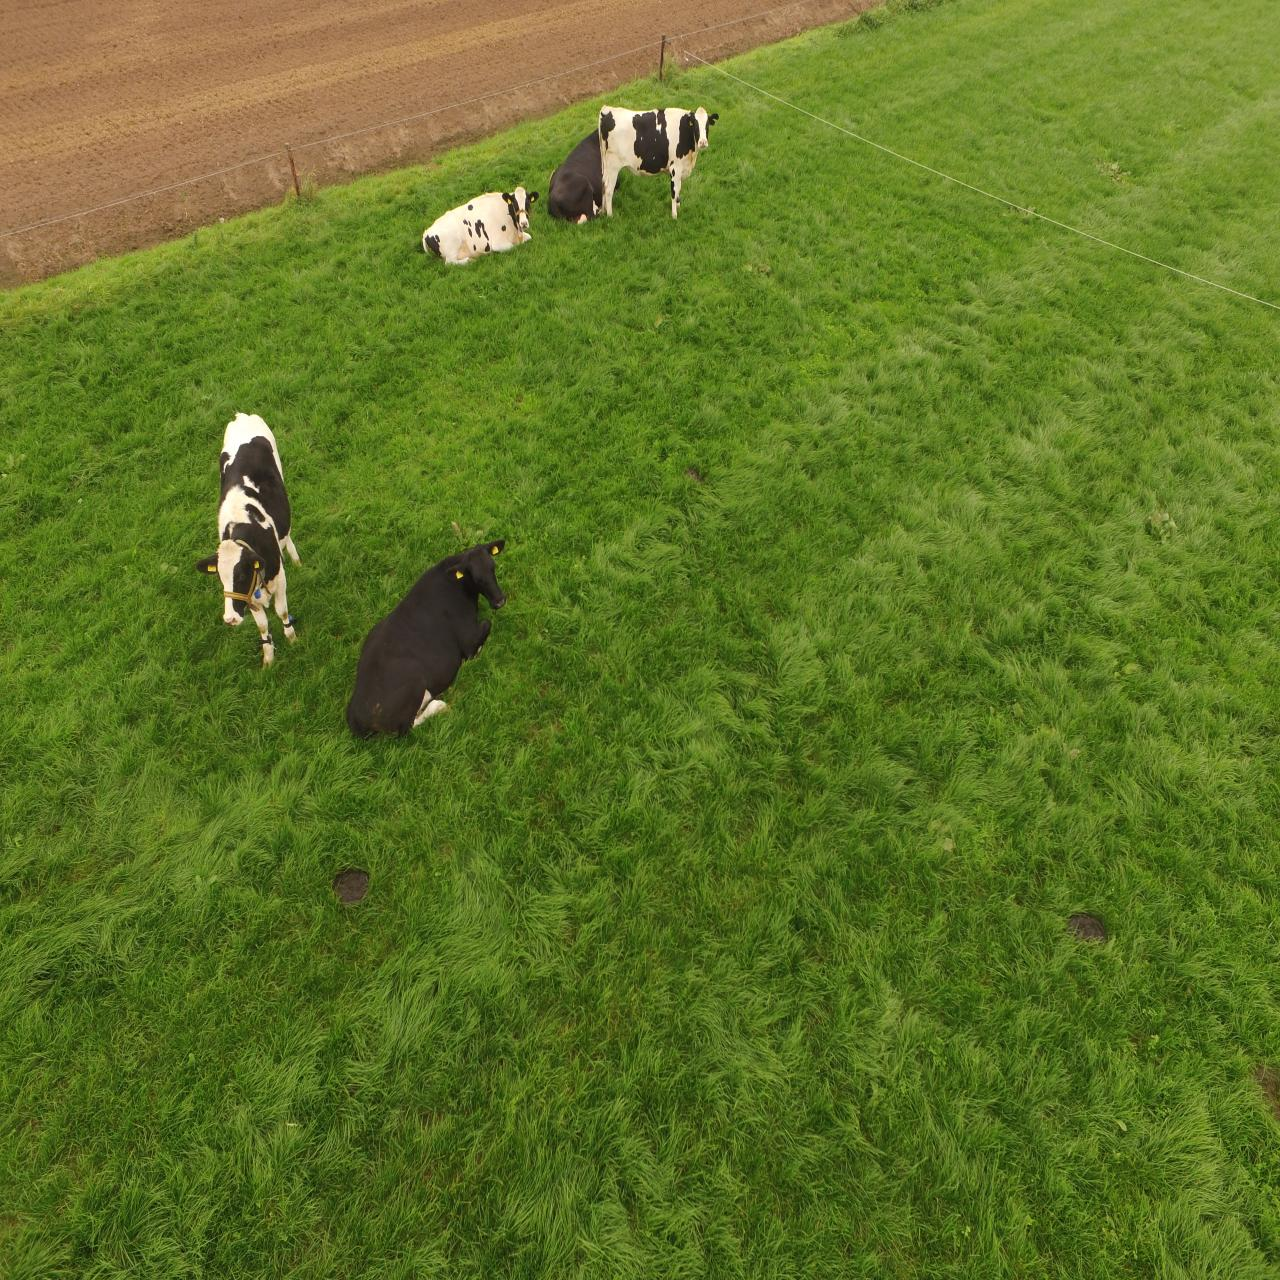cow: (348, 525, 529, 763), (196, 392, 311, 686), (409, 170, 542, 286), (595, 102, 726, 209), (547, 151, 605, 234)
